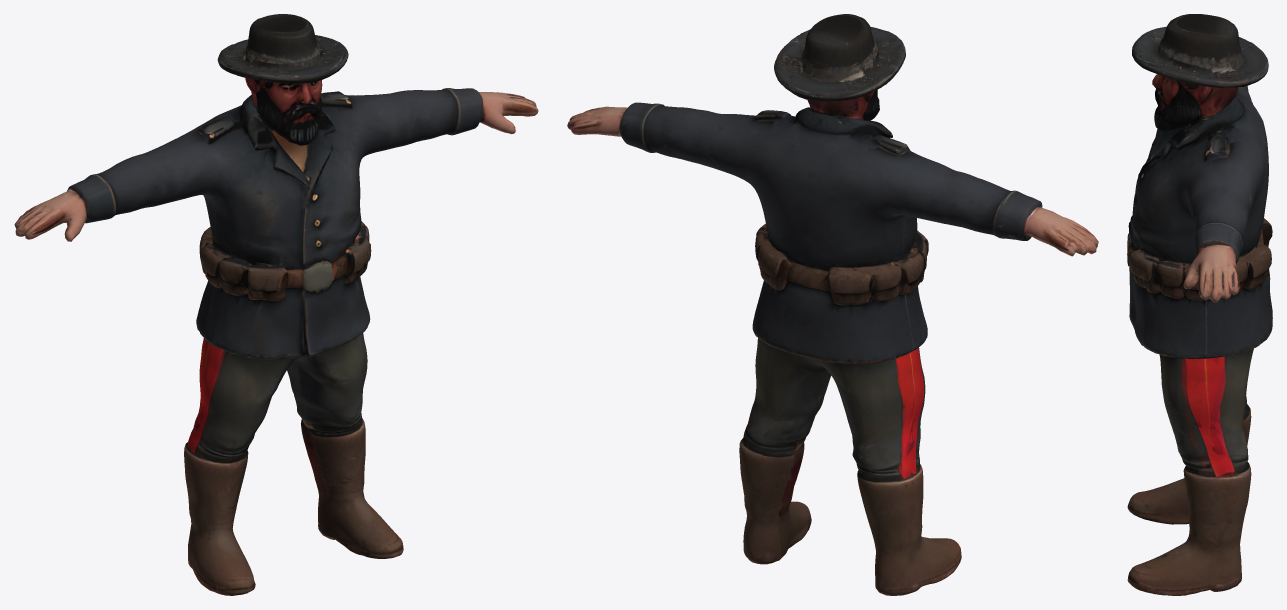
Rendered from soldado_3.glb.
The picture shows the model from 3 angles, left to right: view 1: azimuth 30°, elevation 25°; view 2: azimuth 150°, elevation 25°; view 3: azimuth 270°, elevation 25°; orthographic projection.
Parts seen in each view (by area): view 1: soldado_3; view 2: soldado_3; view 3: soldado_3.
Boxes of the visible parts, <box> form: soldado_3: <box>14,14,538,595</box>; soldado_3: <box>567,14,1098,595</box>; soldado_3: <box>1127,14,1272,595</box>.
Bounding box in the file's own units: 1.72 × 1.69 × 0.4203.
1 material, 1 textured.
